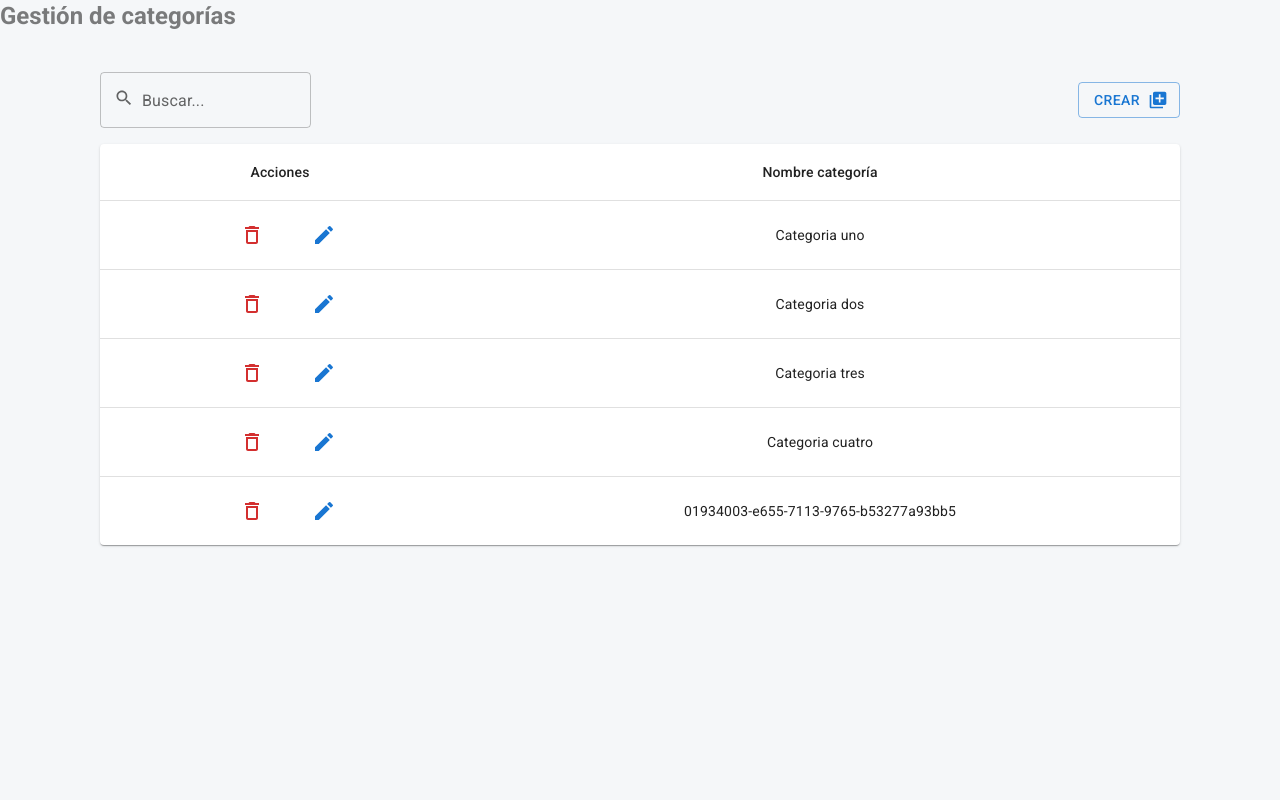
Creación de Categoría › Debería mostrar un error si nombre categoría esta vacía
Click the button "Crear": [1129, 100] box [1078,82,1180,118]
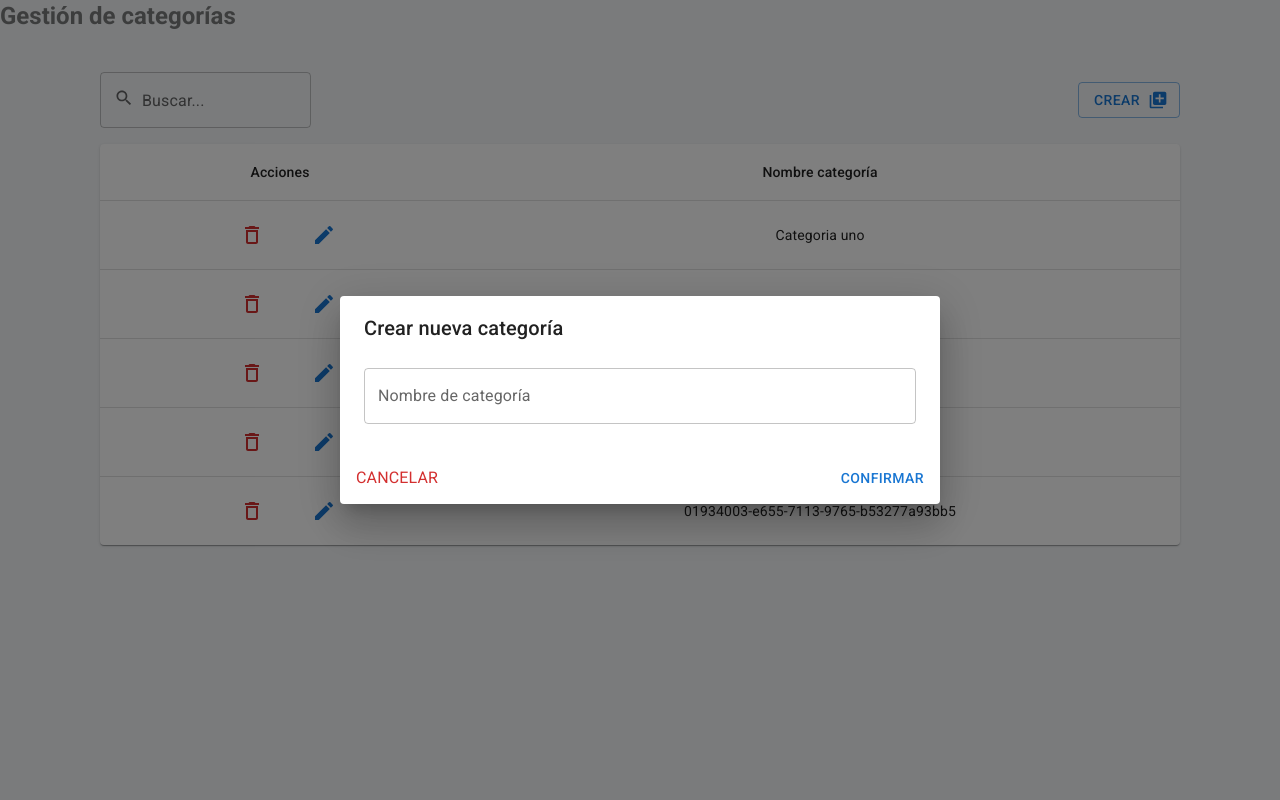
Expected: the button "Confirmar" is shown
Expected: the field labelled "Nombre de categoría" is shown, [364,368,916,424]
Note: Intentamos crear la categoría
Click the button "Confirmar": [882, 478] box [833,460,932,496]
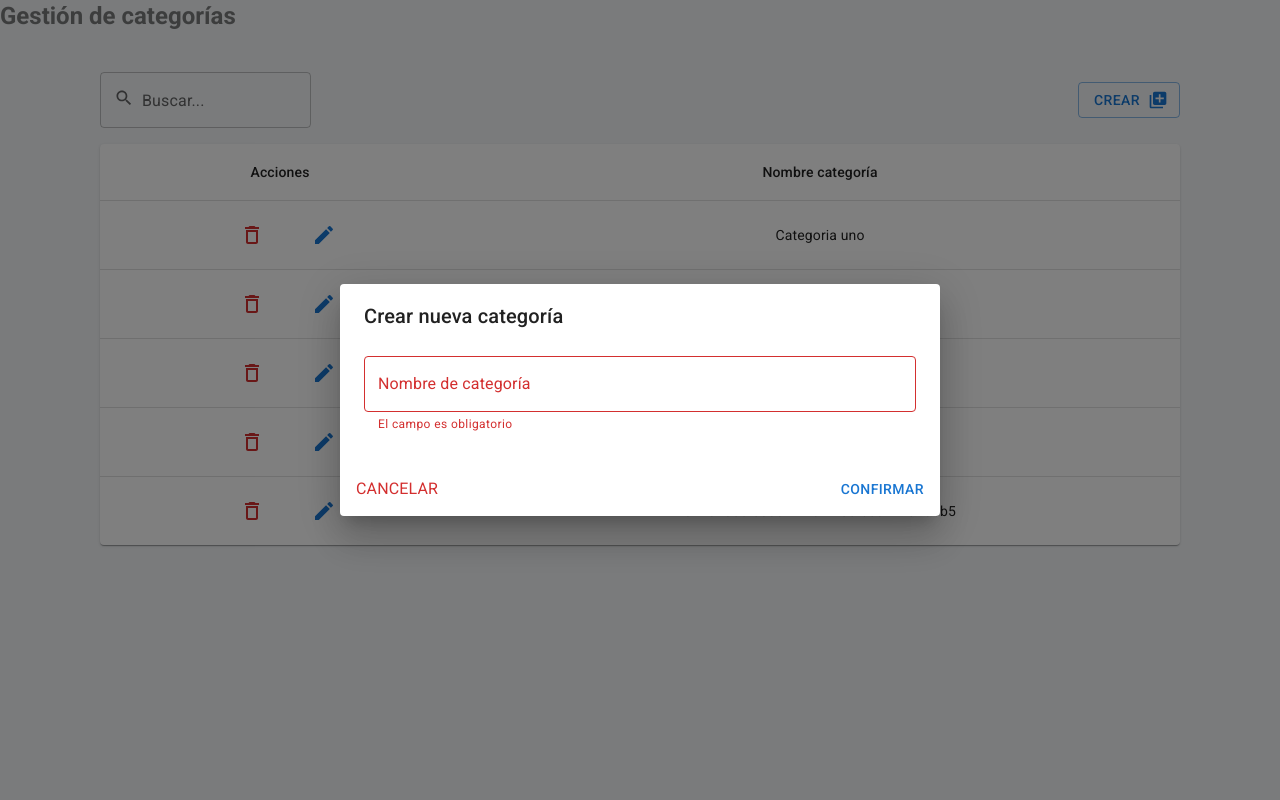
Expected: the text "El campo es obligatorio" is shown, [378,417,512,431]
